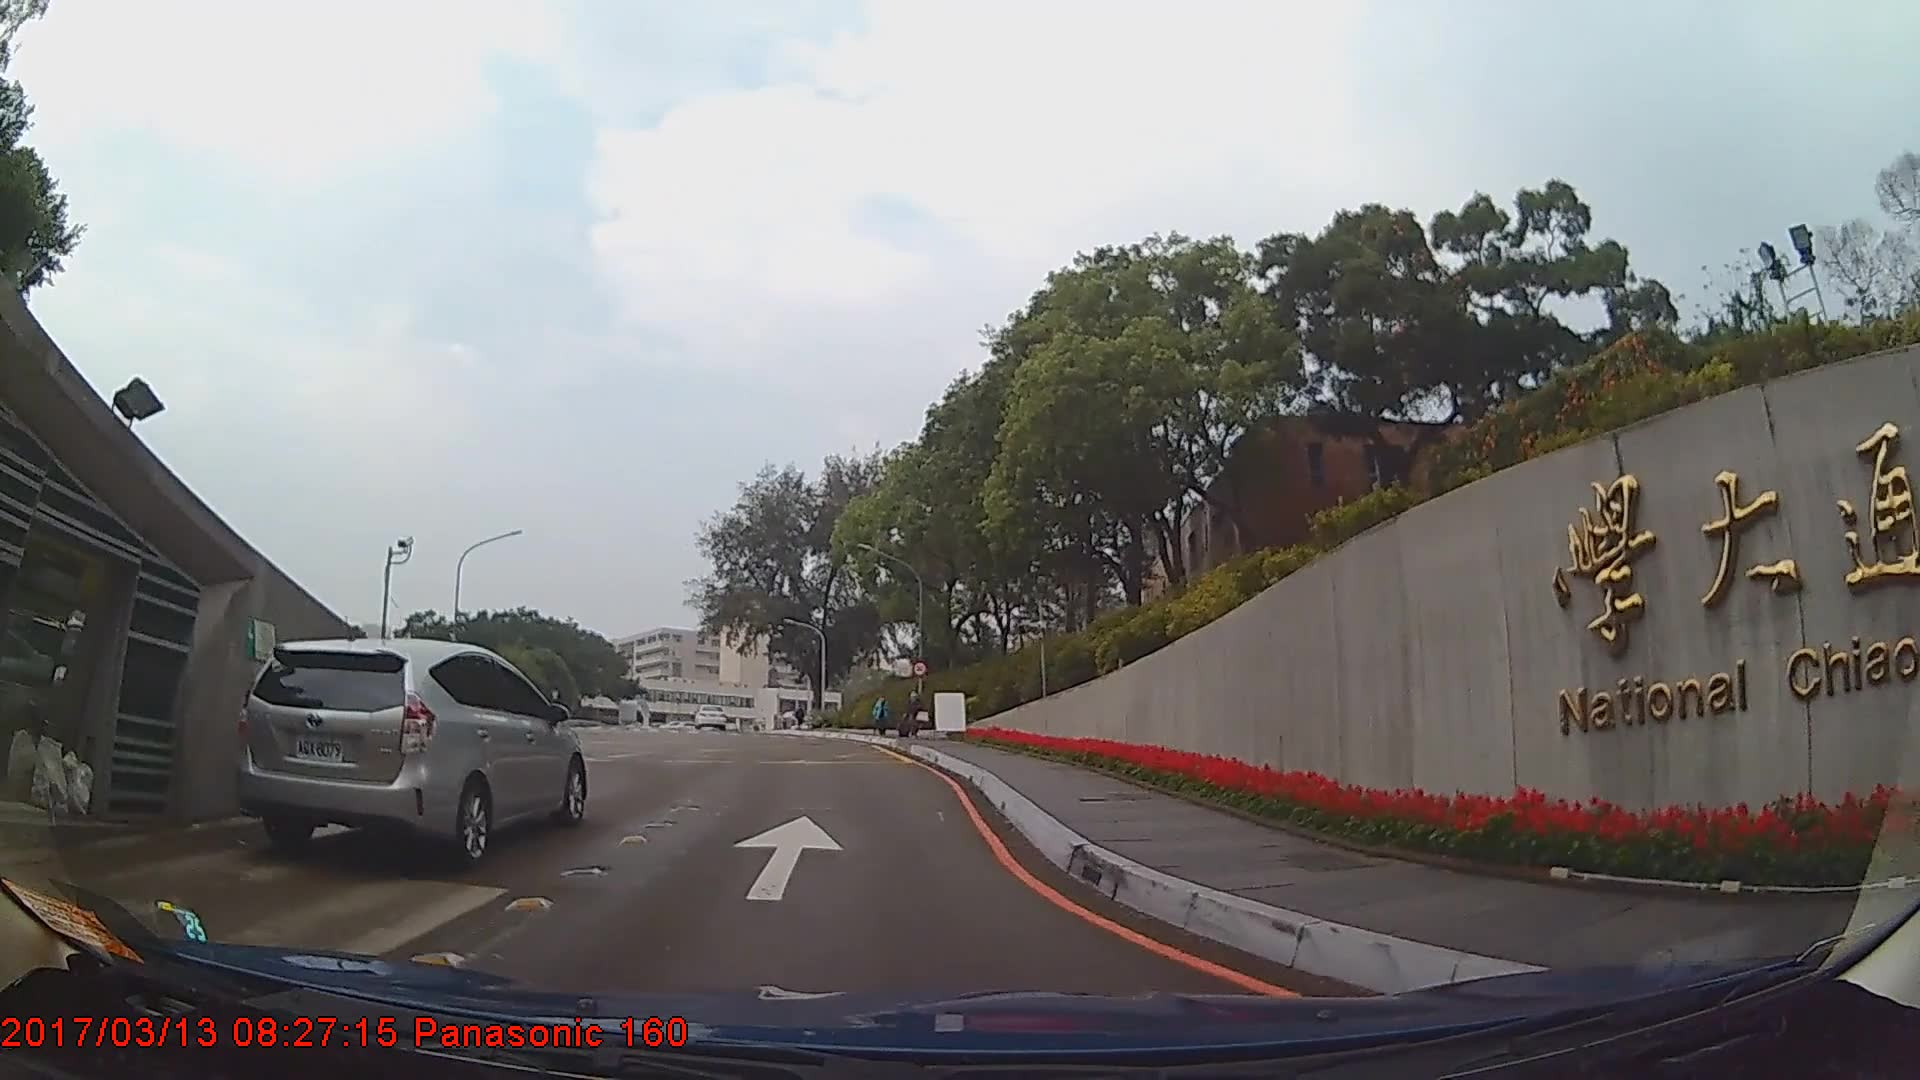pedestrian: (900, 689, 928, 739), (871, 696, 891, 740)
vehicle: (234, 634, 586, 870), (688, 699, 727, 728)
